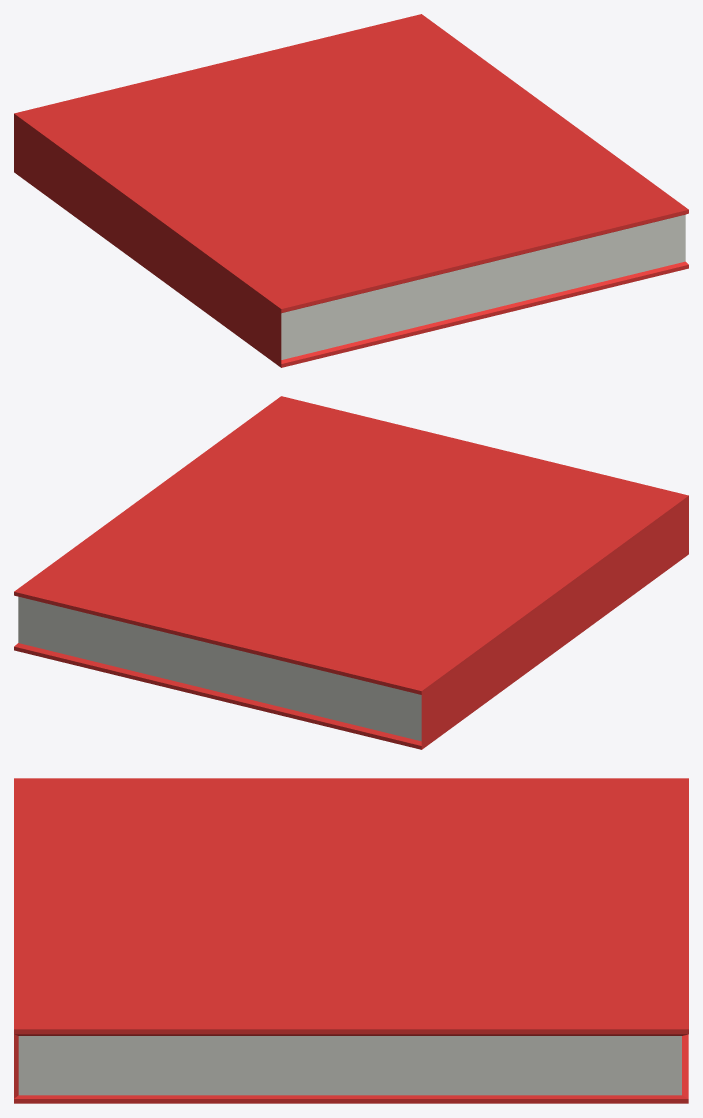
Rendered from red book.fbx.
The picture shows the model from 3 angles, top to bottom: view 1: azimuth 30°, elevation 25°; view 2: azimuth 150°, elevation 25°; view 3: azimuth 270°, elevation 25°; orthographic projection. The views are drawn at different scales.
Parts seen in each view (by area): view 1: book; view 2: book; view 3: book.
Boxes of the visible parts, box(x1,y1,x2,y2) form: book: box(14, 14, 688, 367); book: box(14, 396, 688, 749); book: box(14, 778, 688, 1103).
Size of the model in its own units: 179 by 24.7 by 203.
